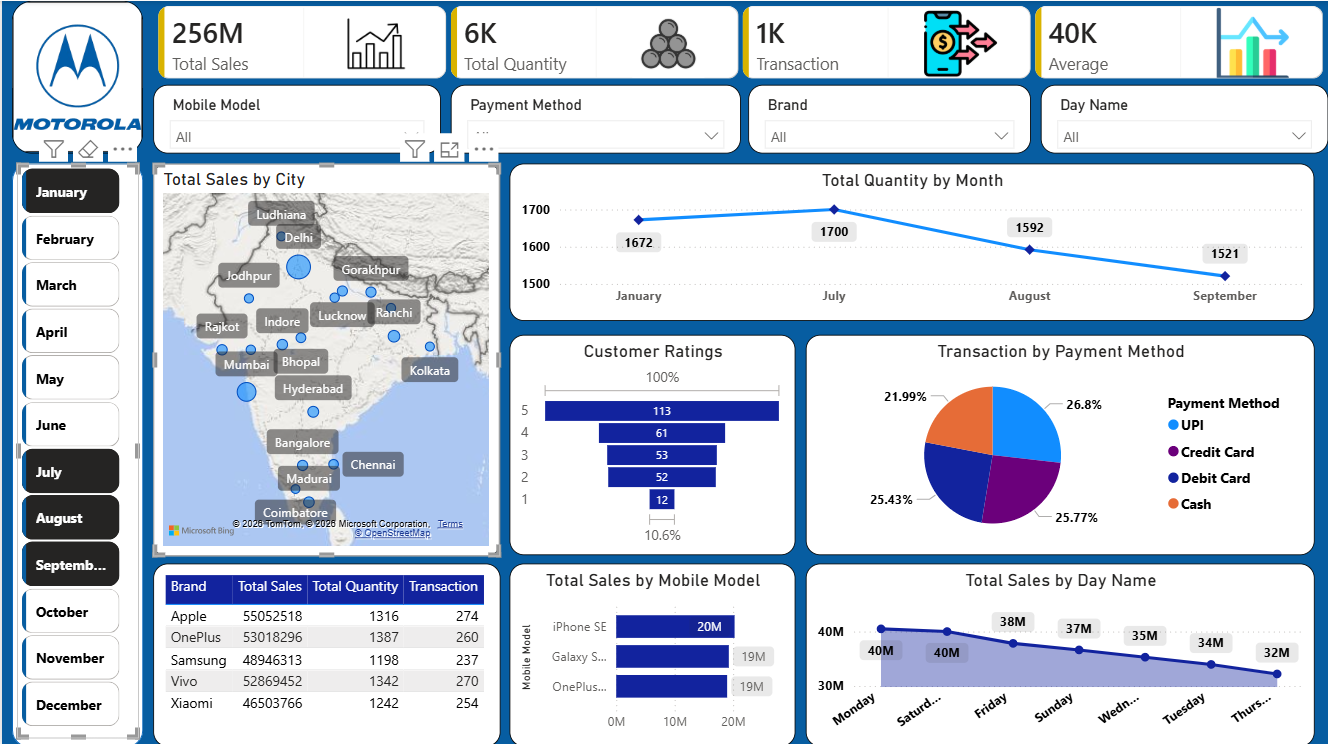

The page's visual inventory and layout, read from the dashboard file:
{"tool":"powerbi","page":{"name":"Page 1","canvas":[1280,720],"ordinal":0},"visuals":[{"type":"image","box":[9.7,0,126.7,147.2],"z":0},{"type":"shape","box":[9.7,156.8,126.7,563.4],"z":1000},{"type":"advancedSlicerVisual","fields":{"Values":["Sales_Data.Date.Variation.Date Hierarchy.Month"]},"box":[14.5,156.8,117,555],"z":2000},{"type":"cardVisual","fields":{"Data":["Sales_Data.Total Sales","Sales_Data.Total Quantity","Sales_Data.Transaction","Sales_Data.Average"]},"box":[146,0,1134.1,80.8],"z":3000},{"type":"map","fields":{"Category":["Sales_Data.City"],"Size":["Sales_Data.Total Sales"]},"box":[146,156.8,334.2,378.8],"z":4000},{"type":"lineChart","fields":{"Category":["Sales_Data.Date.Variation.Date Hierarchy.Month","Sales_Data.Date.Variation.Date Hierarchy.Day"],"Y":["Sales_Data.Total Quantity"]},"box":[489.8,156.8,776.9,152],"z":5000},{"type":"clusteredBarChart","fields":{"Category":["Sales_Data.Mobile Model"],"Y":["Sales_Data.Total Sales"]},"box":[489.9,543.4,275.8,177],"z":6000},{"type":"pieChart","fields":{"Category":["Sales_Data.Payment Method"],"Y":["Sales_Data.Transaction"]},"box":[775.3,322.5,491.3,212.7],"z":7000},{"type":"funnel","title":"Customer Ratings ","fields":{"Category":["Sales_Data.Customer Ratings"],"Y":["CountNonNull(Sales_Data.Customer Ratings)"]},"box":[489.9,322.5,275.8,212.7],"z":8000},{"type":"areaChart","fields":{"Category":["Sales_Data.Day Name"],"Y":["Sales_Data.Total Sales"]},"box":[775.3,543.4,491.3,177],"z":9000},{"type":"tableEx","fields":{"Values":["Sales_Data.Brand","Sales_Data.Total Sales","Sales_Data.Total Quantity","Sales_Data.Transaction"]},"box":[145.5,543.4,334.8,177],"z":10000},{"type":"slicer","fields":{"Values":["Sales_Data.Mobile Model"]},"box":[146,80.8,277.5,66.4],"z":12000},{"type":"slicer","fields":{"Values":["Sales_Data.Payment Method"]},"box":[433.1,80.8,279.9,66.4],"z":13000},{"type":"slicer","fields":{"Values":["Sales_Data.Brand"]},"box":[720.2,80.8,272.7,66.4],"z":14000},{"type":"slicer","fields":{"Values":["Sales_Data.Day Name"]},"box":[1002.6,80.8,277.5,66.4],"z":15000}]}

Visuals, with their boxes in screenshot pixels (x1, y1, x2, y2), scaled from the page's 1280x720 canvas onto the 1328x744 screenshot:
image: bbox=(10, 0, 142, 152)
shape: bbox=(10, 162, 142, 743)
advancedSlicerVisual - Sales_Data.Date.Variation.Date Hierarchy.Month: bbox=(15, 162, 136, 736)
cardVisual - Sales_Data.Total Sales x Sales_Data.Total Quantity: bbox=(151, 0, 1327, 83)
map - Sales_Data.City x Sales_Data.Total Sales: bbox=(151, 162, 498, 553)
lineChart - Sales_Data.Date.Variation.Date Hierarchy.Month x Sales_Data.Date.Variation.Date Hierarchy.Day: bbox=(508, 162, 1314, 319)
clusteredBarChart - Sales_Data.Mobile Model x Sales_Data.Total Sales: bbox=(508, 562, 794, 743)
pieChart - Sales_Data.Payment Method x Sales_Data.Transaction: bbox=(804, 333, 1314, 553)
"Customer Ratings " funnel: bbox=(508, 333, 794, 553)
areaChart - Sales_Data.Day Name x Sales_Data.Total Sales: bbox=(804, 562, 1314, 743)
tableEx - Sales_Data.Brand x Sales_Data.Total Sales: bbox=(151, 562, 498, 743)
slicer - Sales_Data.Mobile Model: bbox=(151, 83, 439, 152)
slicer - Sales_Data.Payment Method: bbox=(449, 83, 740, 152)
slicer - Sales_Data.Brand: bbox=(747, 83, 1030, 152)
slicer - Sales_Data.Day Name: bbox=(1040, 83, 1327, 152)
